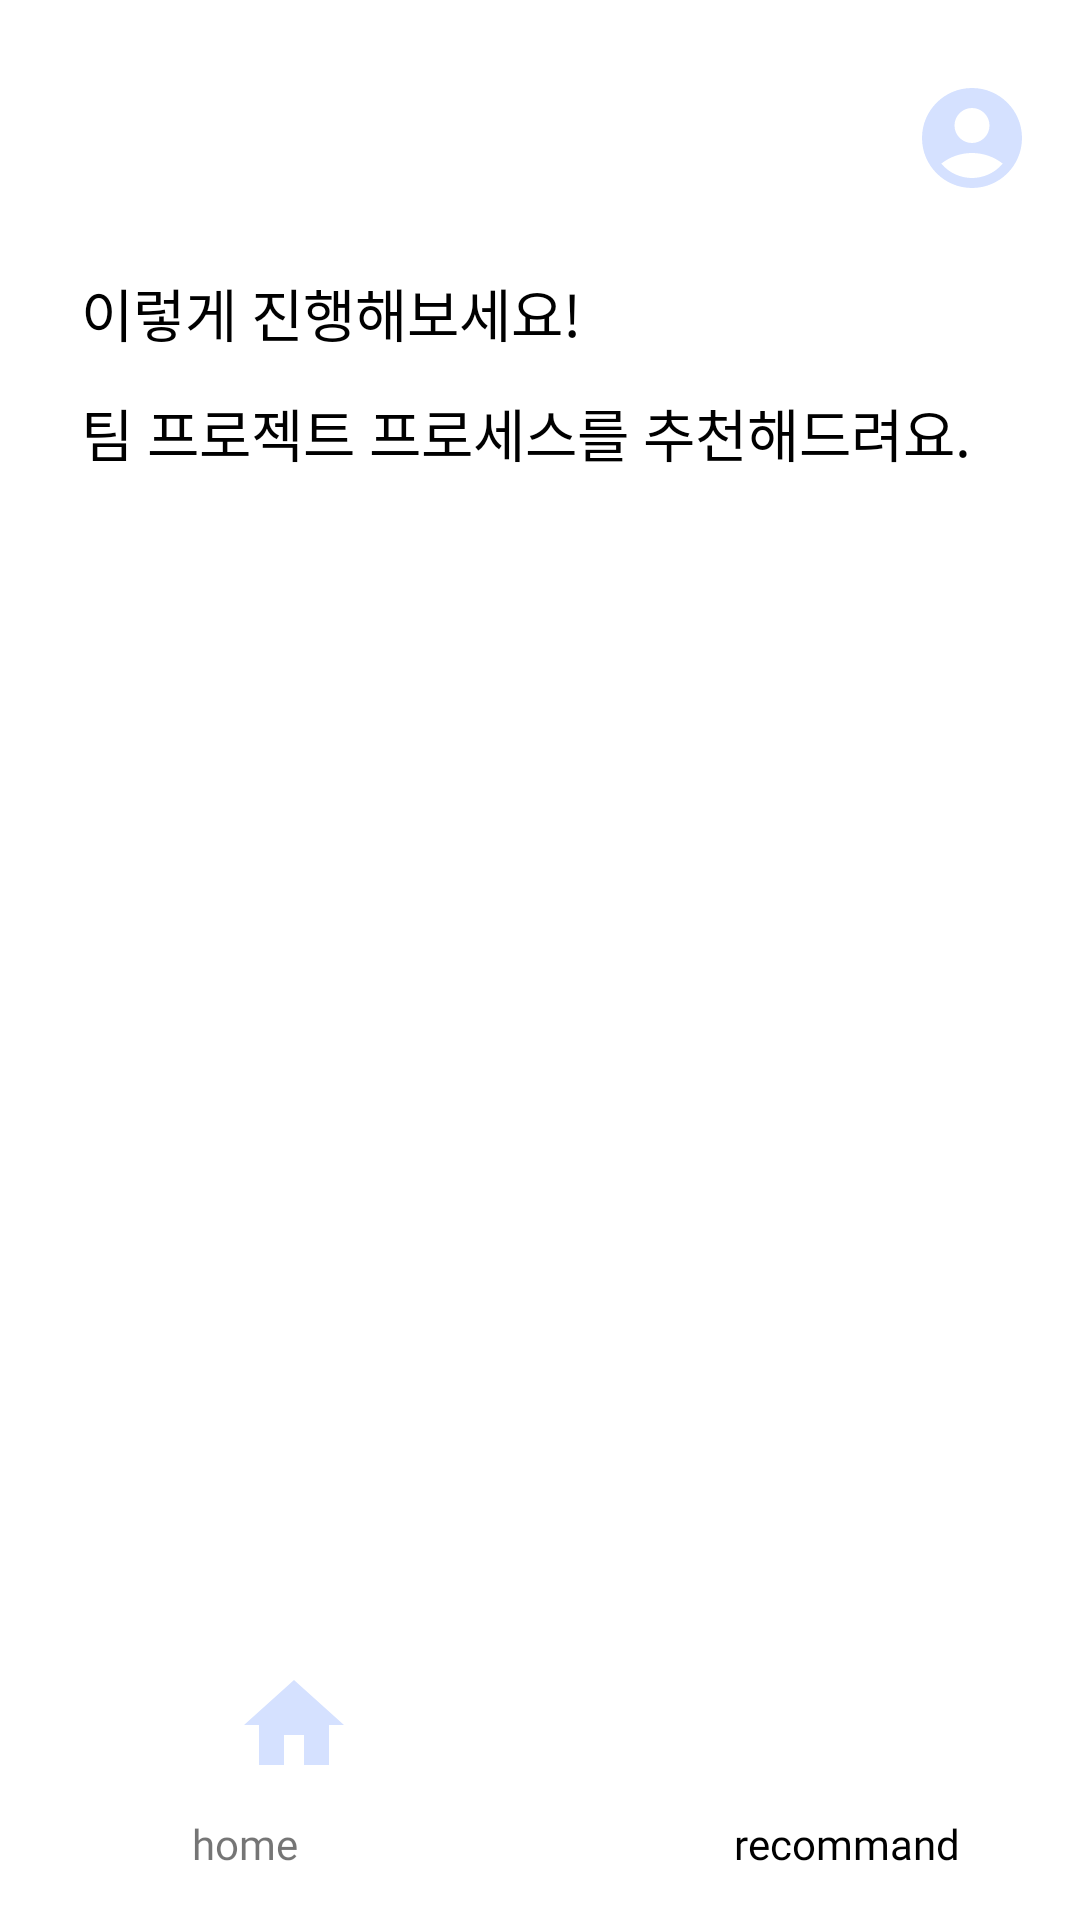

Where to tap for icons on this 1080px×1920px app screen, as (x=x, y=y):
myaccount: (x=972, y=138)
